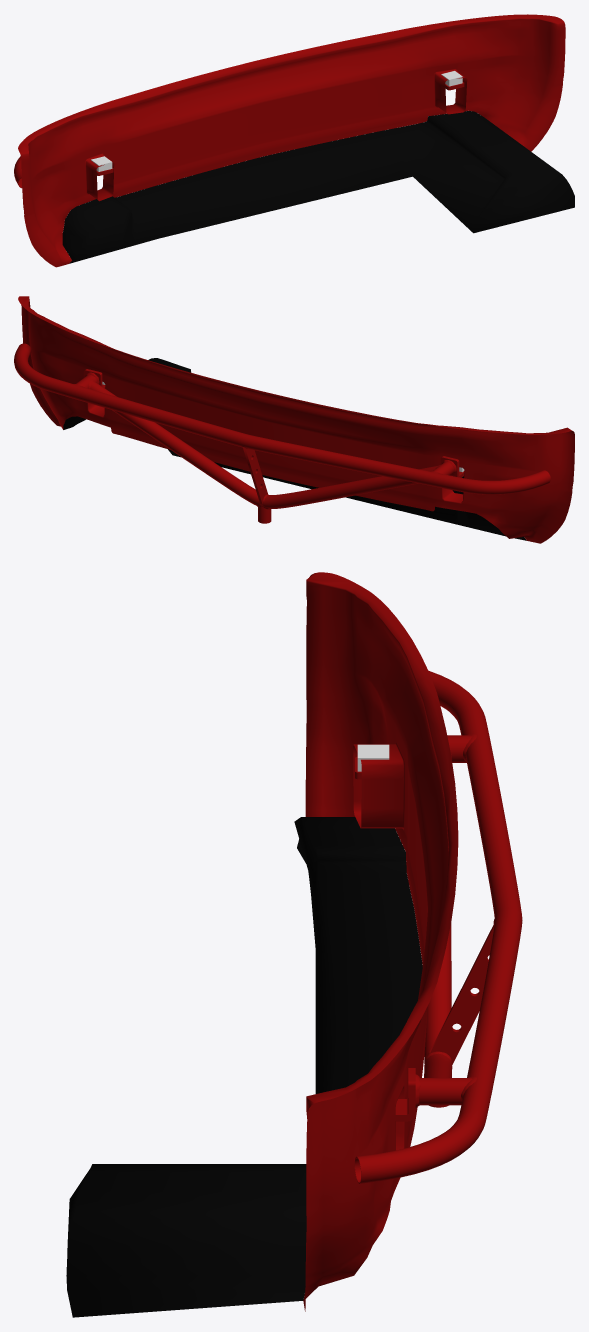
Rendered from rearbumper_bashbar.glb.
3 views of the same model, one above another, from view 1: azimuth 30°, elevation 25°; view 2: azimuth 150°, elevation 25°; view 3: azimuth 270°, elevation 25° (orthographic). The views are drawn at different scales.
Visible parts, largest first — view 1: Bumper, Undercarriage, Screws, Bashbar; view 2: Bumper, Bashbar, Undercarriage; view 3: Undercarriage, Bumper, Bashbar.
Part boxes in pixels (box(x1,y1,x2,y2)): Bumper: box(18, 14, 565, 267); Undercarriage: box(62, 111, 574, 263); Screws: box(91, 71, 462, 171); Bashbar: box(14, 82, 464, 188); Bumper: box(18, 296, 574, 543); Bashbar: box(14, 343, 550, 523); Undercarriage: box(63, 358, 526, 540); Undercarriage: box(66, 817, 422, 1317); Bumper: box(303, 572, 458, 1311); Bashbar: box(354, 670, 522, 1183).
Bounding box in the file's own units: 1.6 × 0.3743 × 0.5814.
